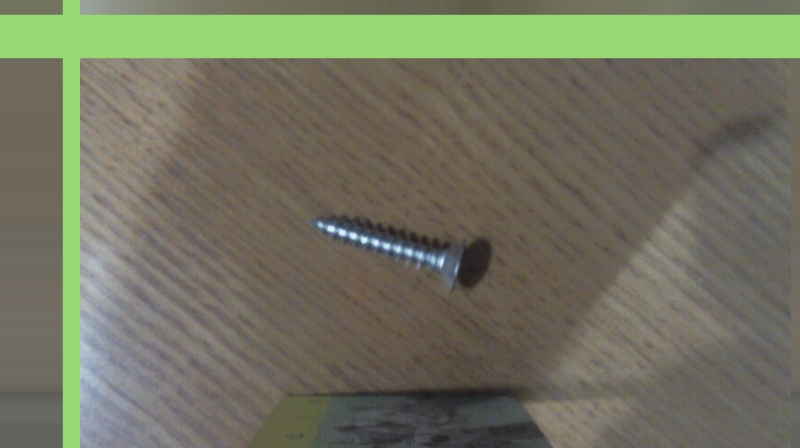S001: (307, 209, 468, 298)
